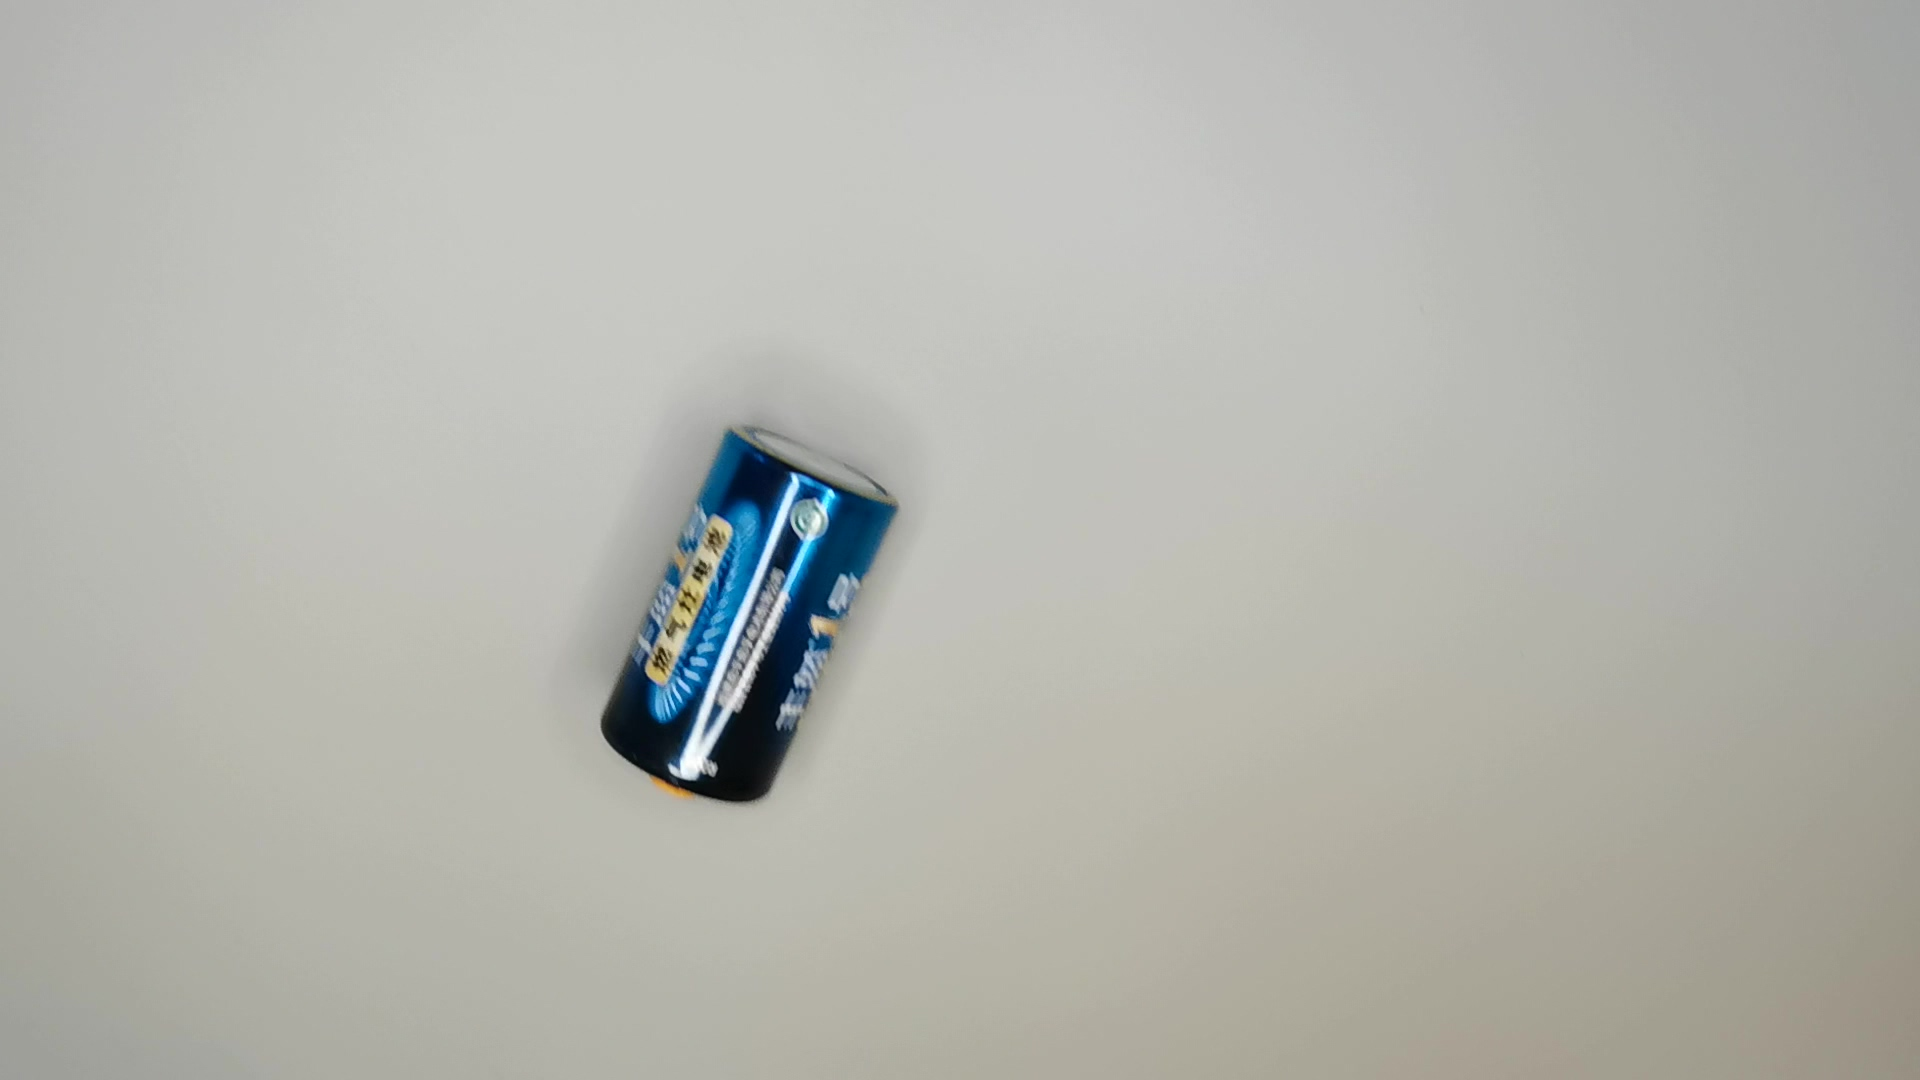battery: (597, 419, 903, 814)
